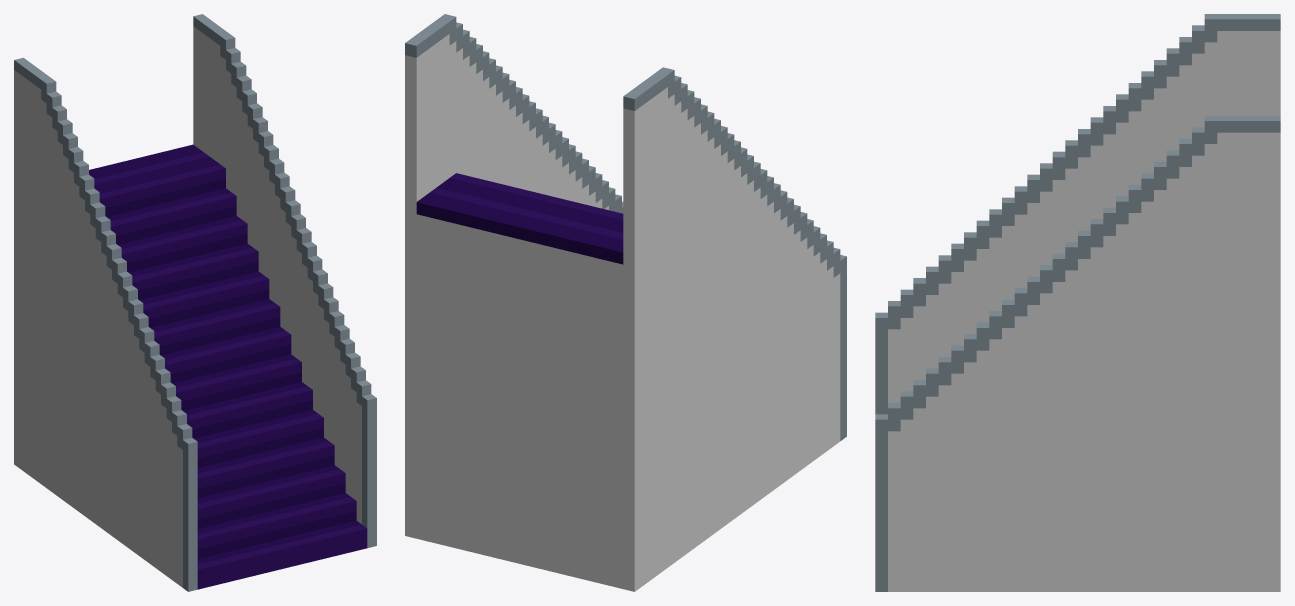
Rendered from staircase.gltf.
3 renders of one model, left to right at view 1: azimuth 30°, elevation 25°; view 2: azimuth 150°, elevation 25°; view 3: azimuth 270°, elevation 25°, orthographic. The views are drawn at different scales.
Parts seen in each view (by area): view 1: Layer.2; view 2: Layer.2; view 3: Layer.2.
Part boxes in pixels (<box>): Layer.2: <box>14,14,376,591</box>; Layer.2: <box>405,14,846,591</box>; Layer.2: <box>875,14,1280,591</box>.
Bounding box in the file's own units: 20 × 41 × 32.
